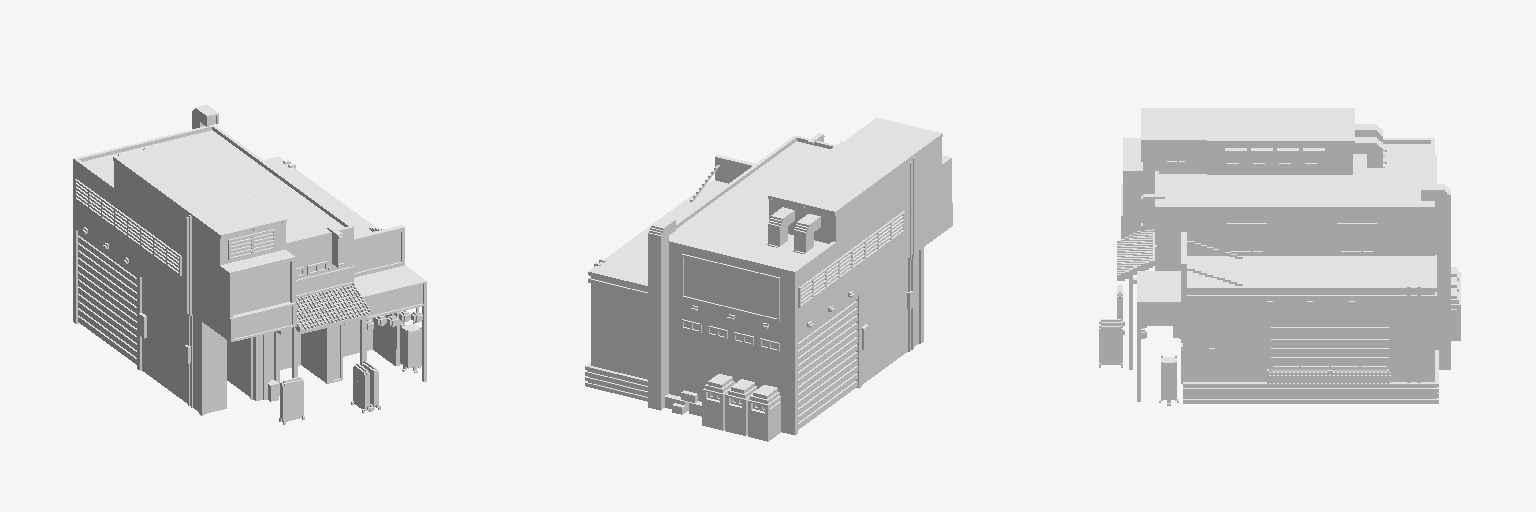
The model's file is GDS2_Food-0.obj.
3 views of the same model, side by side, from view 1: azimuth 30°, elevation 25°; view 2: azimuth 150°, elevation 25°; view 3: azimuth 270°, elevation 25° (orthographic).
Parts seen in each view (by area): view 1: GDS2_Food-0; view 2: GDS2_Food-0; view 3: GDS2_Food-0.
Boxes of the visible parts, box(x1,y1,x2,y2) form: GDS2_Food-0: box(73, 105, 426, 424); GDS2_Food-0: box(585, 118, 952, 441); GDS2_Food-0: box(1099, 108, 1460, 405).
Bounding box in the file's own units: 12.5 × 10.7 × 18.1.